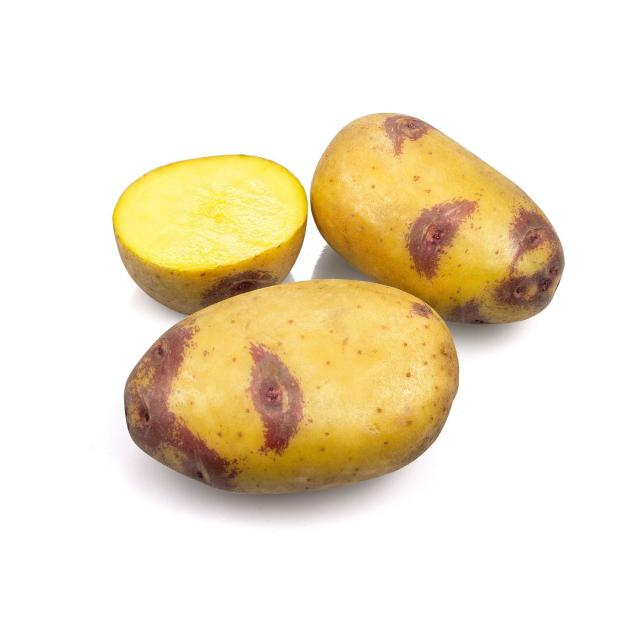Potato: (122, 237, 474, 558), (304, 103, 574, 329)
